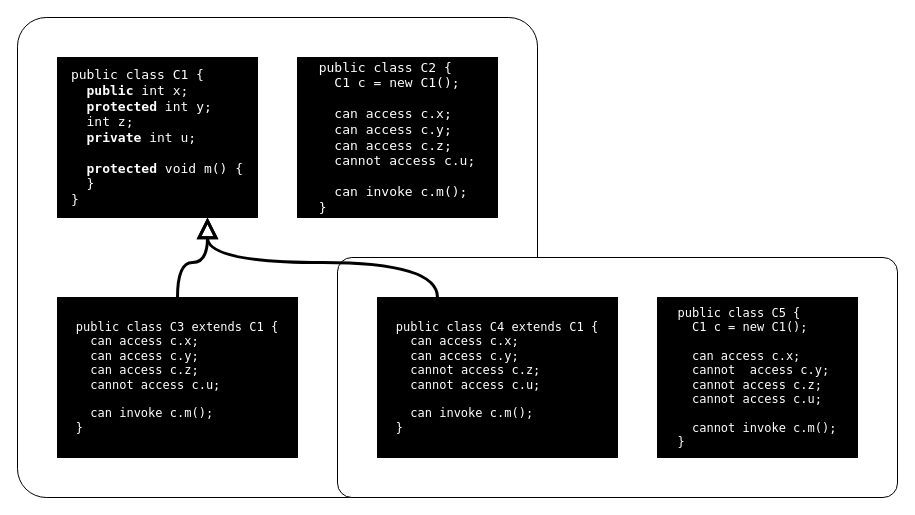
Image size: 915x515. Some labels were removed from this diagram. Each missing label, with the box of its shape:
Package p1;: (16, 16, 538, 498)
Package p2;: (336, 256, 898, 498)
